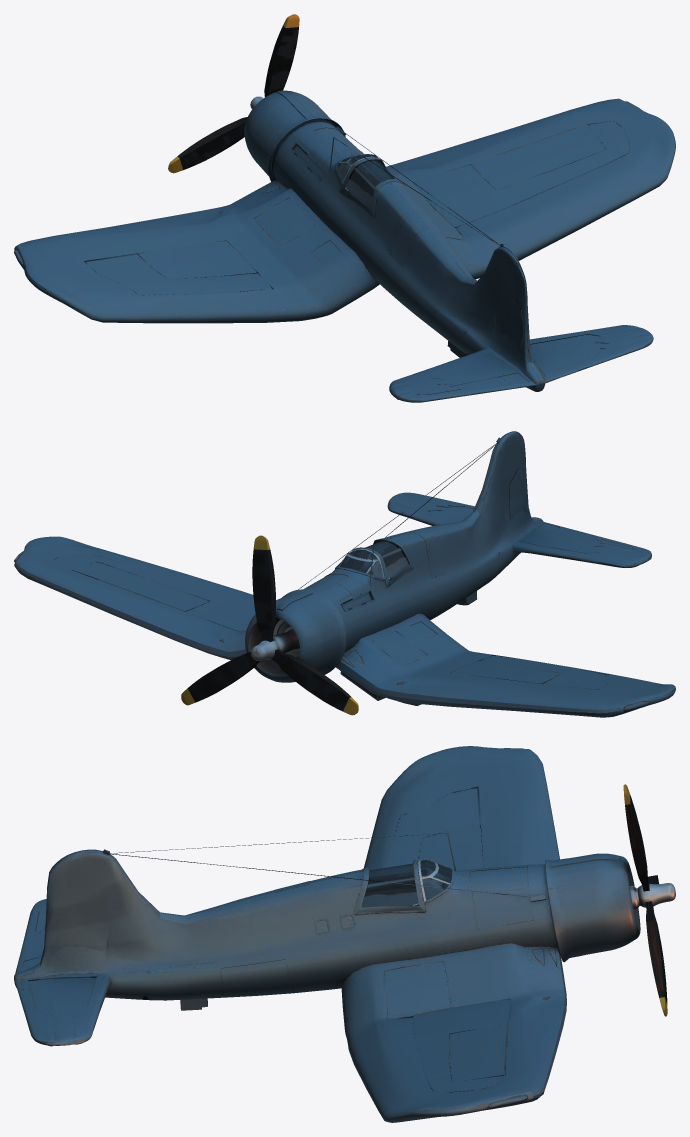
3 renders of one model, top to bottom at view 1: azimuth 30°, elevation 25°; view 2: azimuth 150°, elevation 25°; view 3: azimuth 270°, elevation 25°, orthographic. The views are drawn at different scales.
Parts seen in each view (by area): view 1: body, blades; view 2: body, blades; view 3: body, blades.
Boxes of the visible parts, <box> form: body: <box>14,90,675,402</box>; blades: <box>168,14,299,173</box>; body: <box>14,431,675,717</box>; blades: <box>181,535,358,715</box>; body: <box>14,746,675,1122</box>; blades: <box>623,784,667,1016</box>.
Size of the model in its own units: 0.6054 by 0.1819 by 0.4684.
5 materials, 5 textured.
